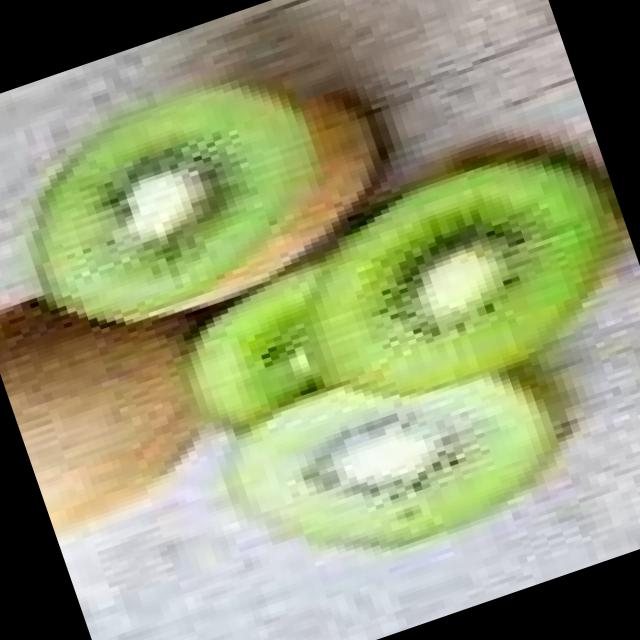kivi: (33, 83, 378, 320), (307, 158, 618, 392), (223, 374, 557, 548), (0, 299, 197, 534), (187, 262, 323, 424)
